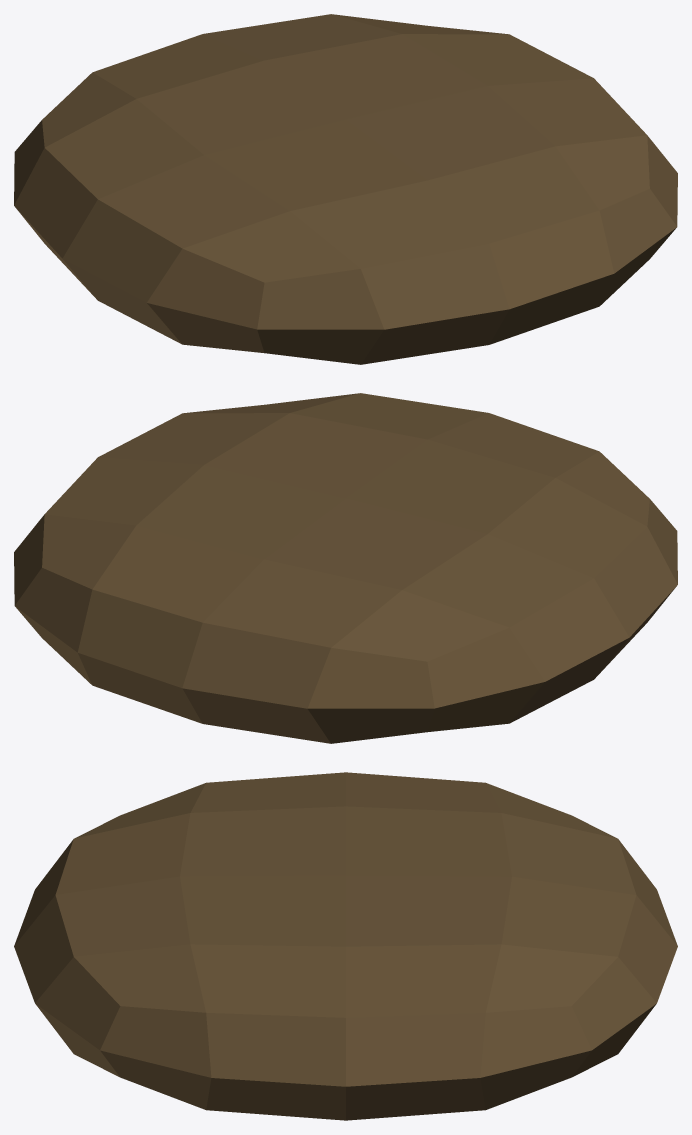
Rendered from BurgerPatty_Cooked.glb.
The picture shows the model from 3 angles, top to bottom: view 1: azimuth 30°, elevation 25°; view 2: azimuth 150°, elevation 25°; view 3: azimuth 270°, elevation 25°; orthographic projection.
Visible parts, largest first — view 1: BurgerPatty_Cooked_Cube.002; view 2: BurgerPatty_Cooked_Cube.002; view 3: BurgerPatty_Cooked_Cube.002.
Boxes of the visible parts, box(x1,y1,x2,y2) form: BurgerPatty_Cooked_Cube.002: box(14, 14, 677, 364); BurgerPatty_Cooked_Cube.002: box(14, 393, 677, 743); BurgerPatty_Cooked_Cube.002: box(14, 772, 677, 1120).
Size of the model in its own units: 1.43 by 0.3364 by 1.43.
